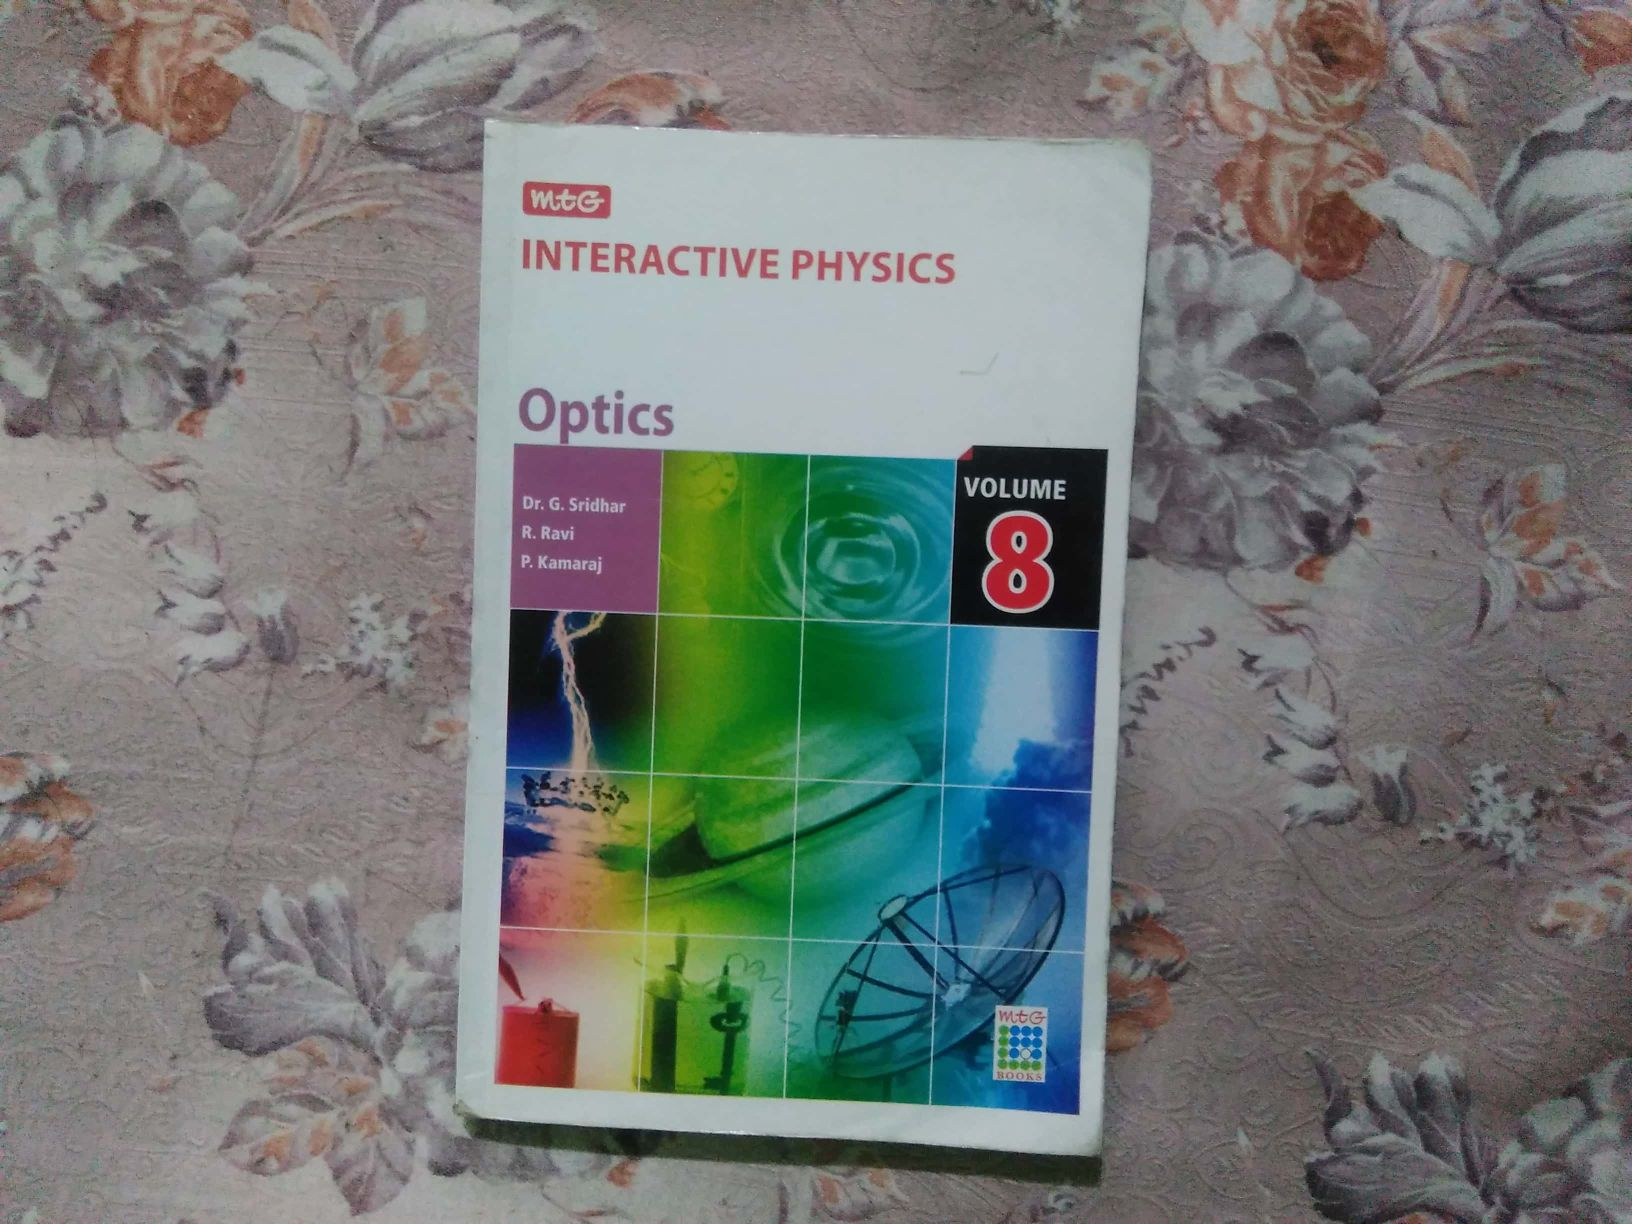optics: (397, 122, 1254, 1157)
